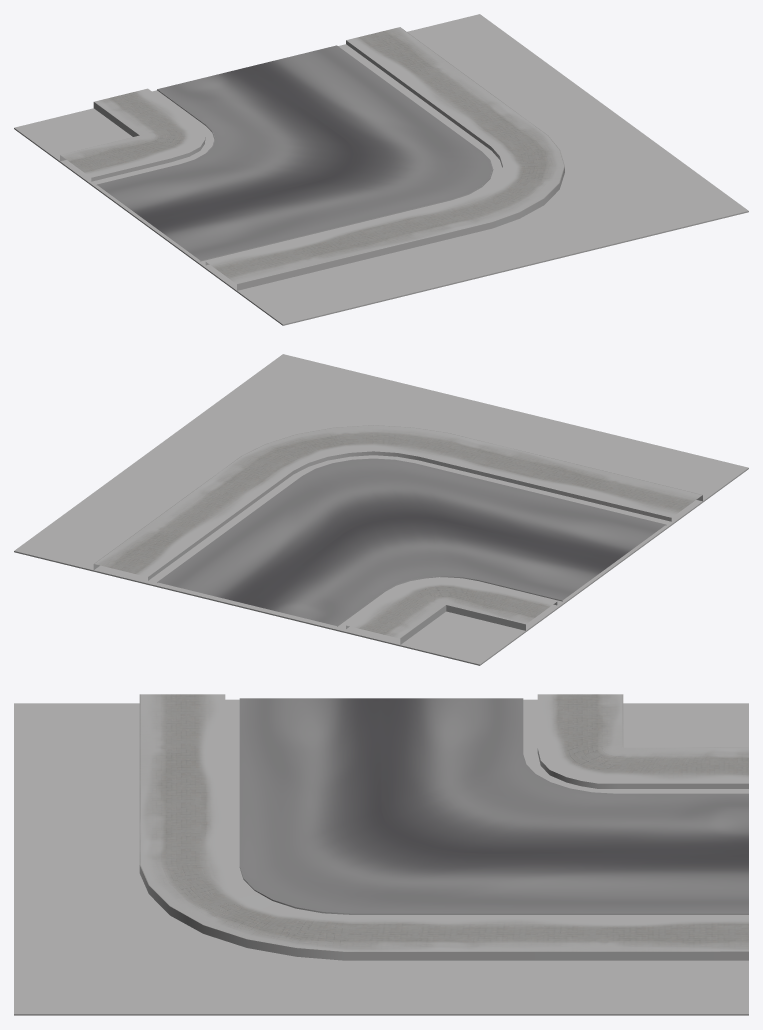
The model's file is Curved_Turn.fbx.
3 views of the same model, one above another, from view 1: azimuth 30°, elevation 25°; view 2: azimuth 150°, elevation 25°; view 3: azimuth 270°, elevation 25° (orthographic). The views are drawn at different scales.
Parts seen in each view (by area): view 1: Road_10X28, Road_10X27; view 2: Road_10X28, Road_10X27; view 3: Road_10X28, Road_10X27.
Part boxes in pixels (x1=…): Road_10X28: x1=60, y1=27, x2=564, y2=290; Road_10X27: x1=14, y1=14, x2=748, y2=325; Road_10X28: x1=93, y1=425, x2=702, y2=644; Road_10X27: x1=14, y1=354, x2=748, y2=665; Road_10X28: x1=139, y1=694, x2=748, y2=960; Road_10X27: x1=14, y1=703, x2=748, y2=1015.
Bounding box in the file's own units: 1000 × 16.37 × 1000.
